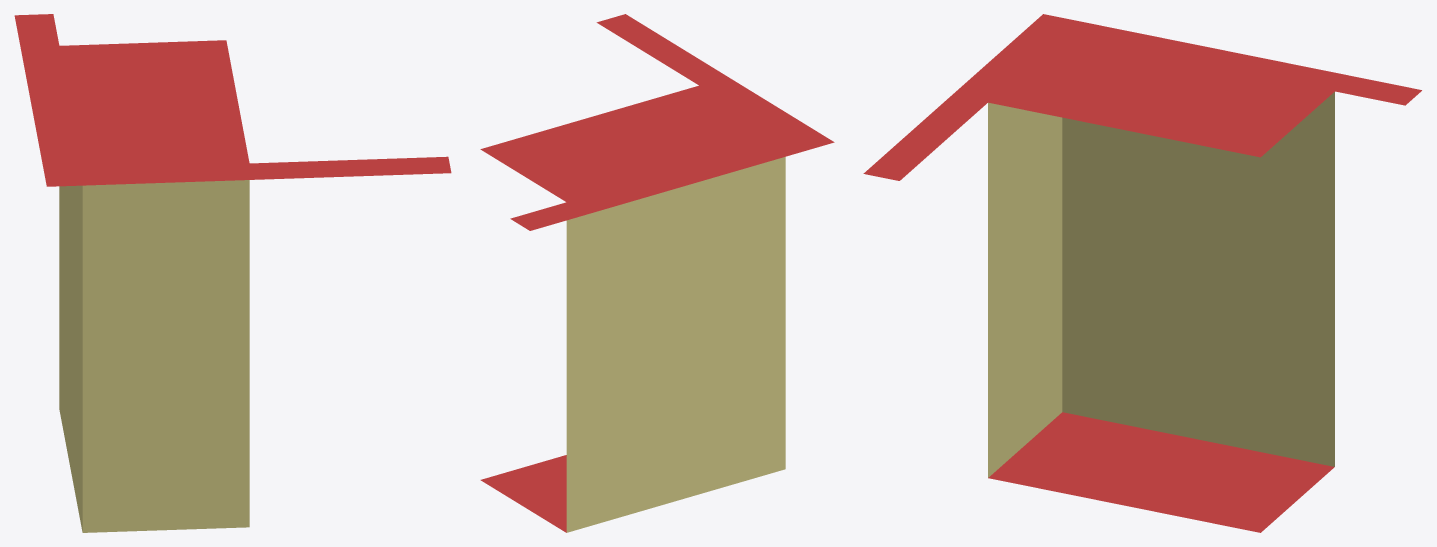
The picture shows the model from 3 angles, left to right: view 1: azimuth 30°, elevation 25°; view 2: azimuth 150°, elevation 25°; view 3: azimuth 270°, elevation 25°; orthographic projection. The views are drawn at different scales.
Size of the model in its own units: 4.91 by 6.95 by 5.14.
